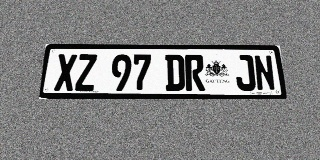7: (131, 54, 151, 91)
9: (111, 54, 132, 91)
D: (165, 55, 185, 91)
J: (234, 55, 256, 91)
N: (253, 55, 276, 91)
R: (185, 55, 205, 91)
X: (54, 54, 77, 91)
Z: (75, 54, 97, 91)
